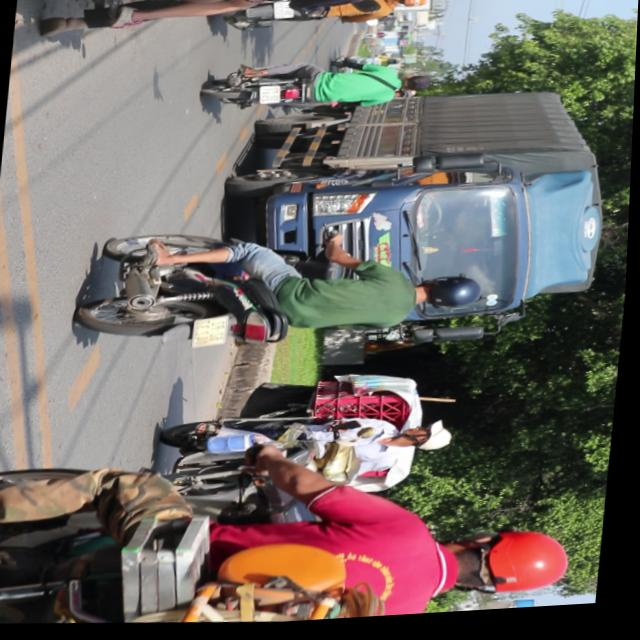helmet: (443, 528, 576, 611), (416, 277, 487, 321), (400, 424, 459, 460), (391, 0, 429, 15)
licenseplate: (0, 422, 585, 640), (73, 213, 497, 376), (153, 405, 464, 522), (17, 0, 480, 63), (201, 52, 436, 129)
motorcyclist: (401, 79, 433, 100)
nohelmet: (194, 317, 232, 352), (259, 89, 282, 109), (272, 4, 295, 23), (148, 0, 189, 3)
